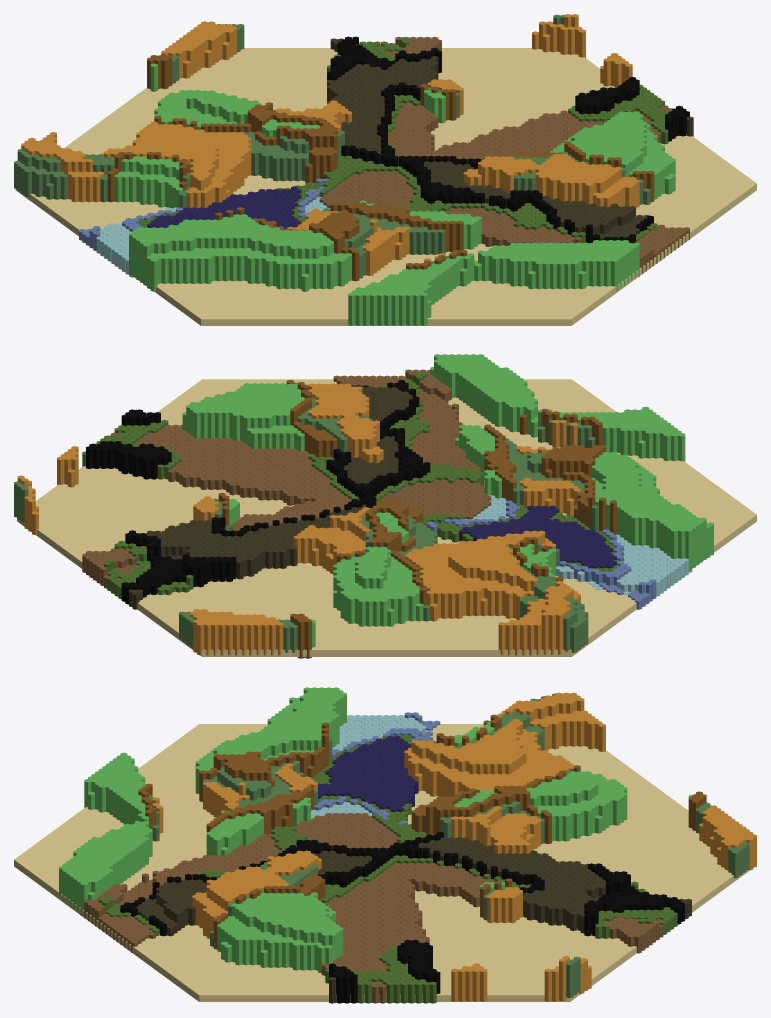
The model's file is 0020_tile_1202111.fbx.
3 views of the same model, one above another, from view 1: azimuth 30°, elevation 25°; view 2: azimuth 150°, elevation 25°; view 3: azimuth 270°, elevation 25° (orthographic).
Visible parts, largest first — view 1: Plane; view 2: Plane; view 3: Plane.
Boxes of the visible parts, x1,y1,x2,y2 form: Plane: (14,14,756,325); Plane: (14,354,756,658); Plane: (14,687,756,1003).
Bounding box in the file's own units: 1008 × 82.45 × 1152.
